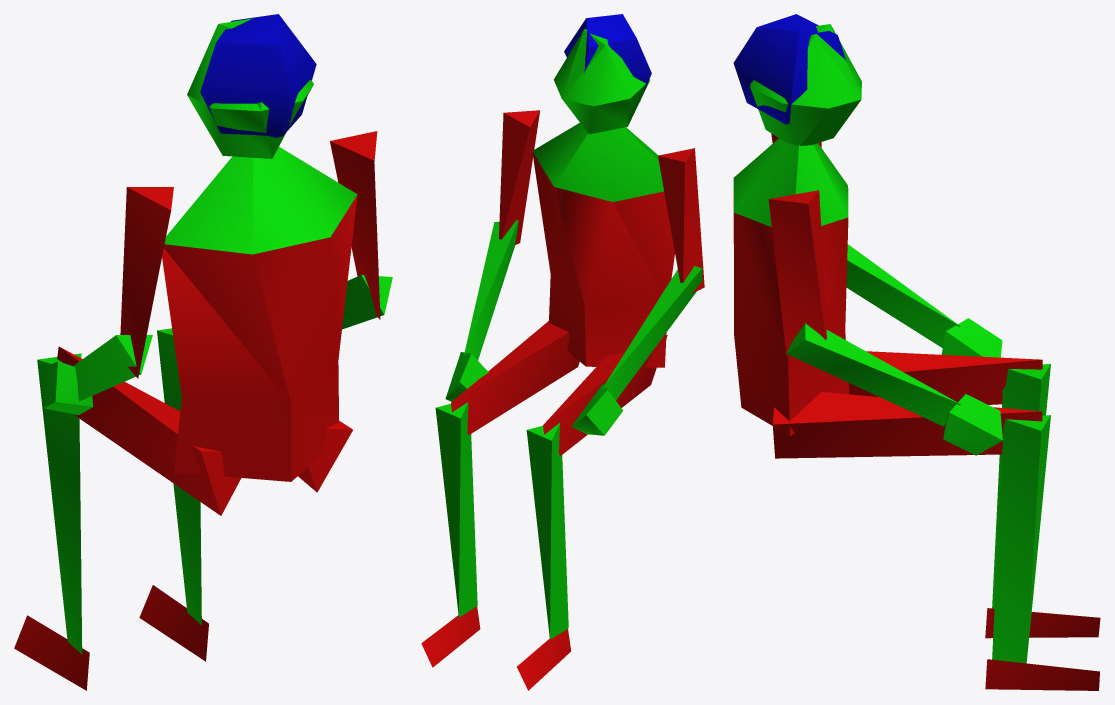
Rendered from sit_idle_lod2.glb.
3 views of the same model, side by side, from view 1: azimuth 30°, elevation 25°; view 2: azimuth 150°, elevation 25°; view 3: azimuth 270°, elevation 25° (orthographic). The views are drawn at different scales.
Visible parts, largest first — view 1: OUT_2; view 2: OUT_2; view 3: OUT_2.
Part boxes in pixels (left/top/right/bottom): OUT_2: left=14, top=14, right=392, bottom=690; OUT_2: left=421, top=14, right=704, bottom=690; OUT_2: left=733, top=14, right=1100, bottom=690.
Size of the model in its own units: 0.5053 by 1.29 by 0.6659.
